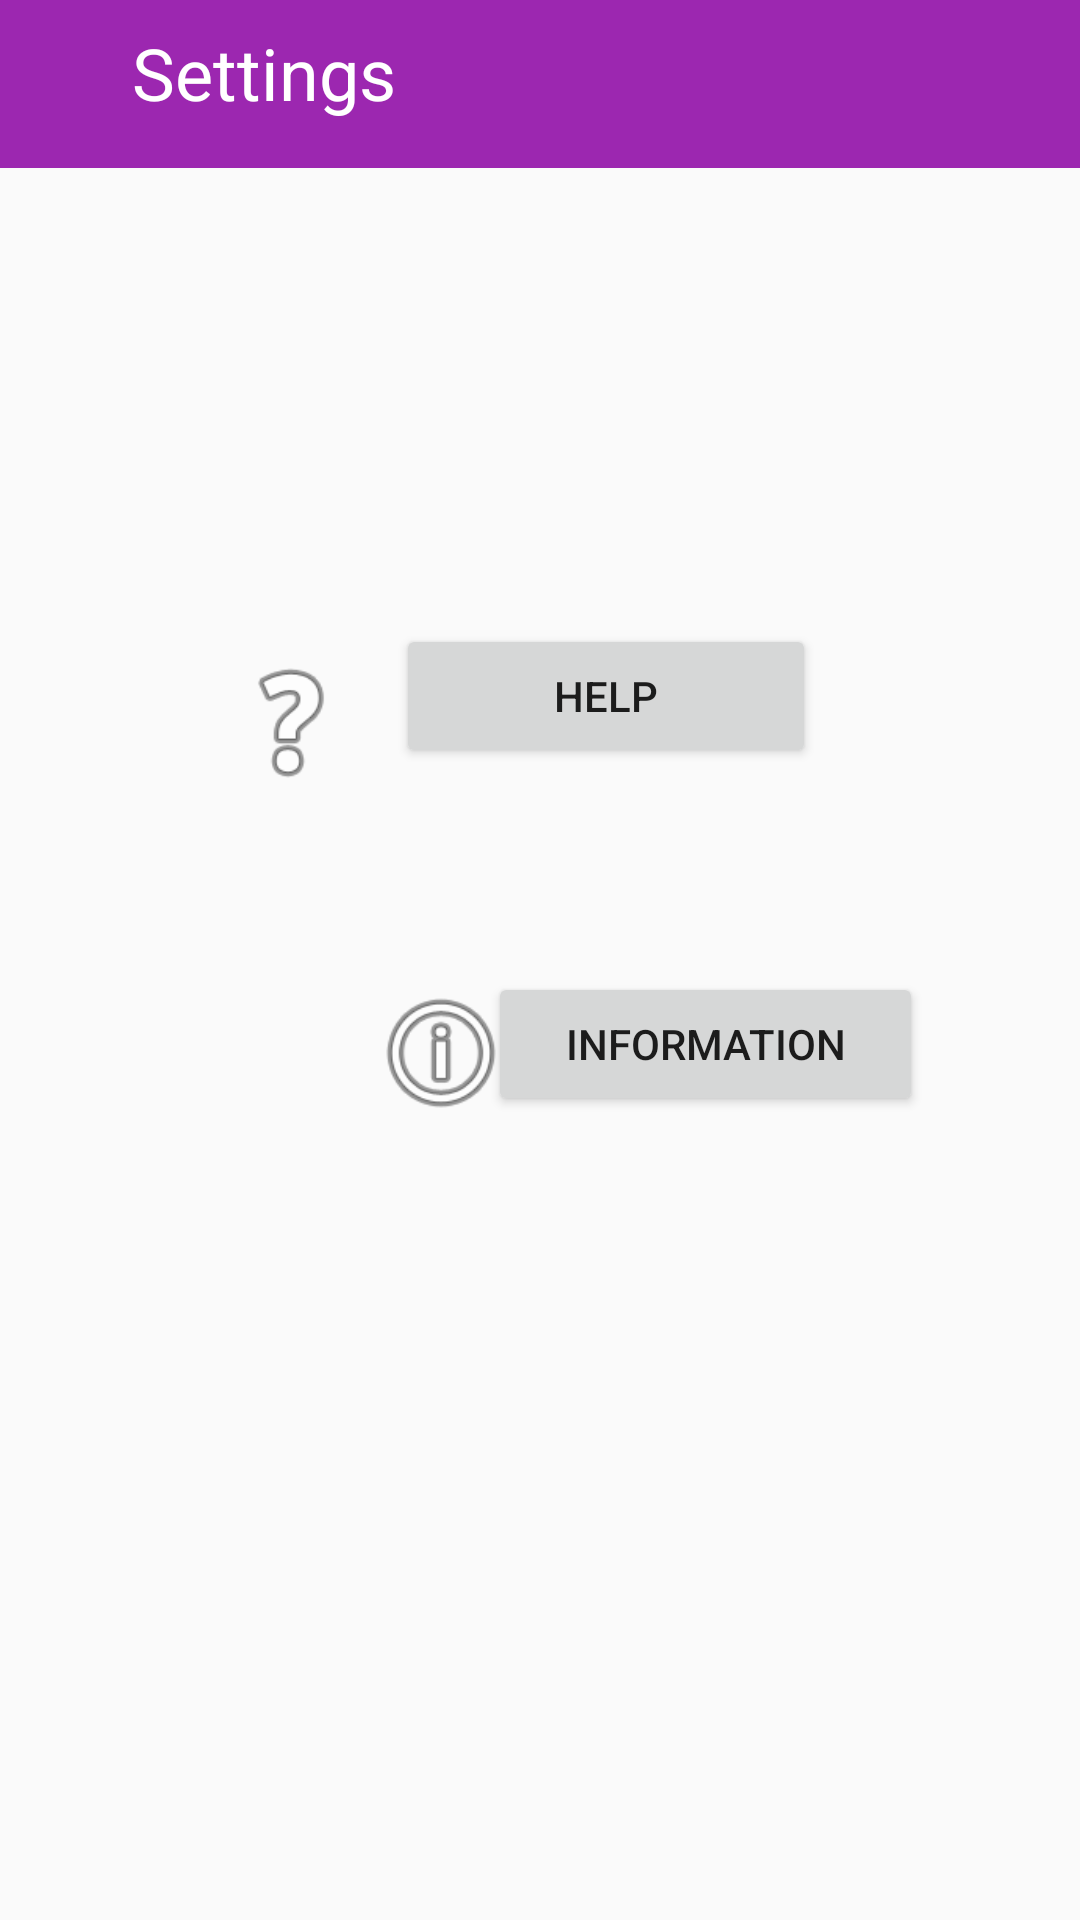

Named icons in this screenshot (1080x1920) and their centers, (x=x, y=y):
info details: (x=441, y=1053)
